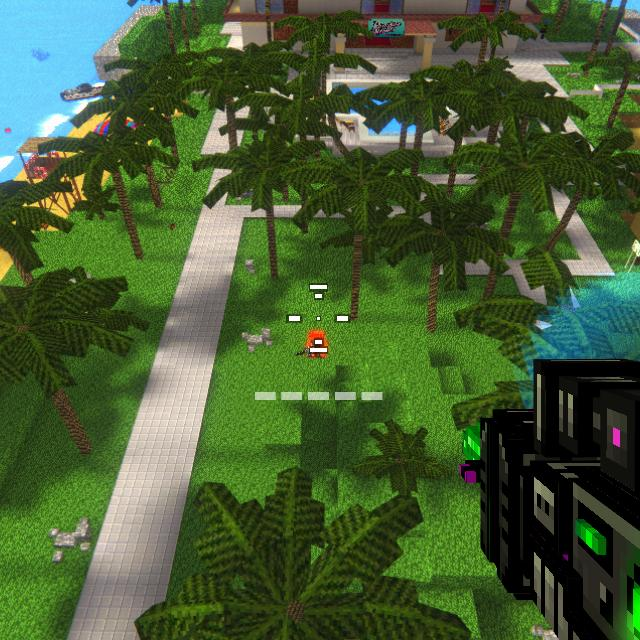Enemy: (309, 337, 325, 358)
